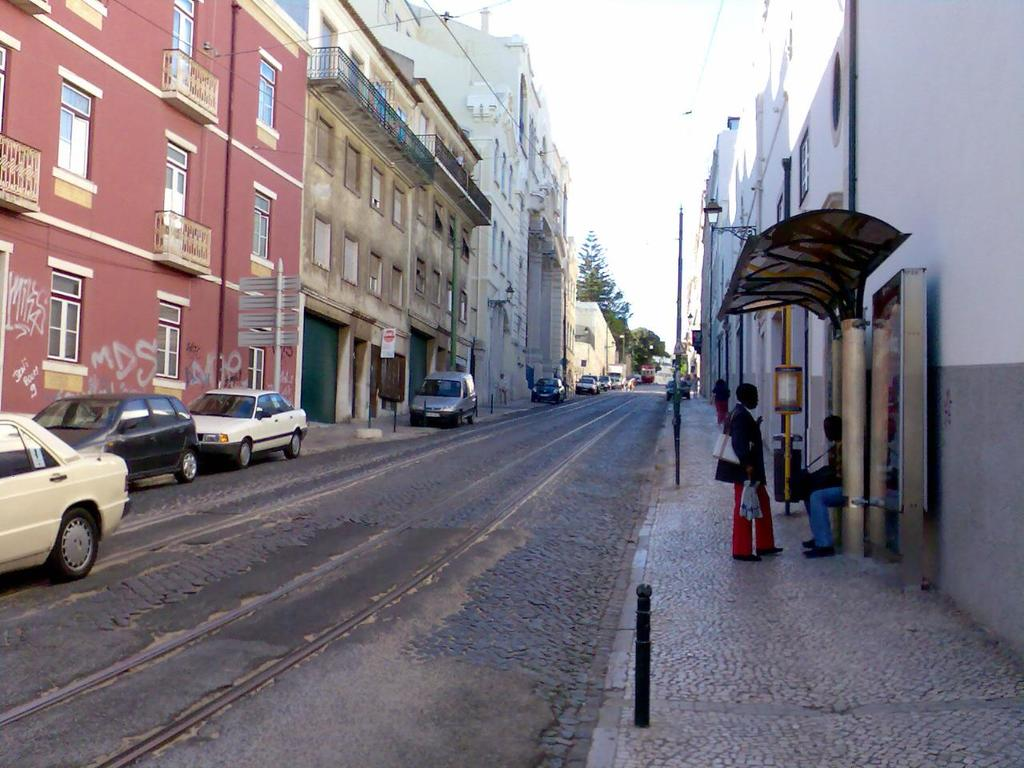Car: (0, 396, 123, 590), (23, 394, 199, 479), (190, 384, 307, 468), (407, 367, 479, 426), (528, 376, 564, 406), (570, 372, 599, 395), (594, 375, 610, 387), (611, 376, 622, 391)
